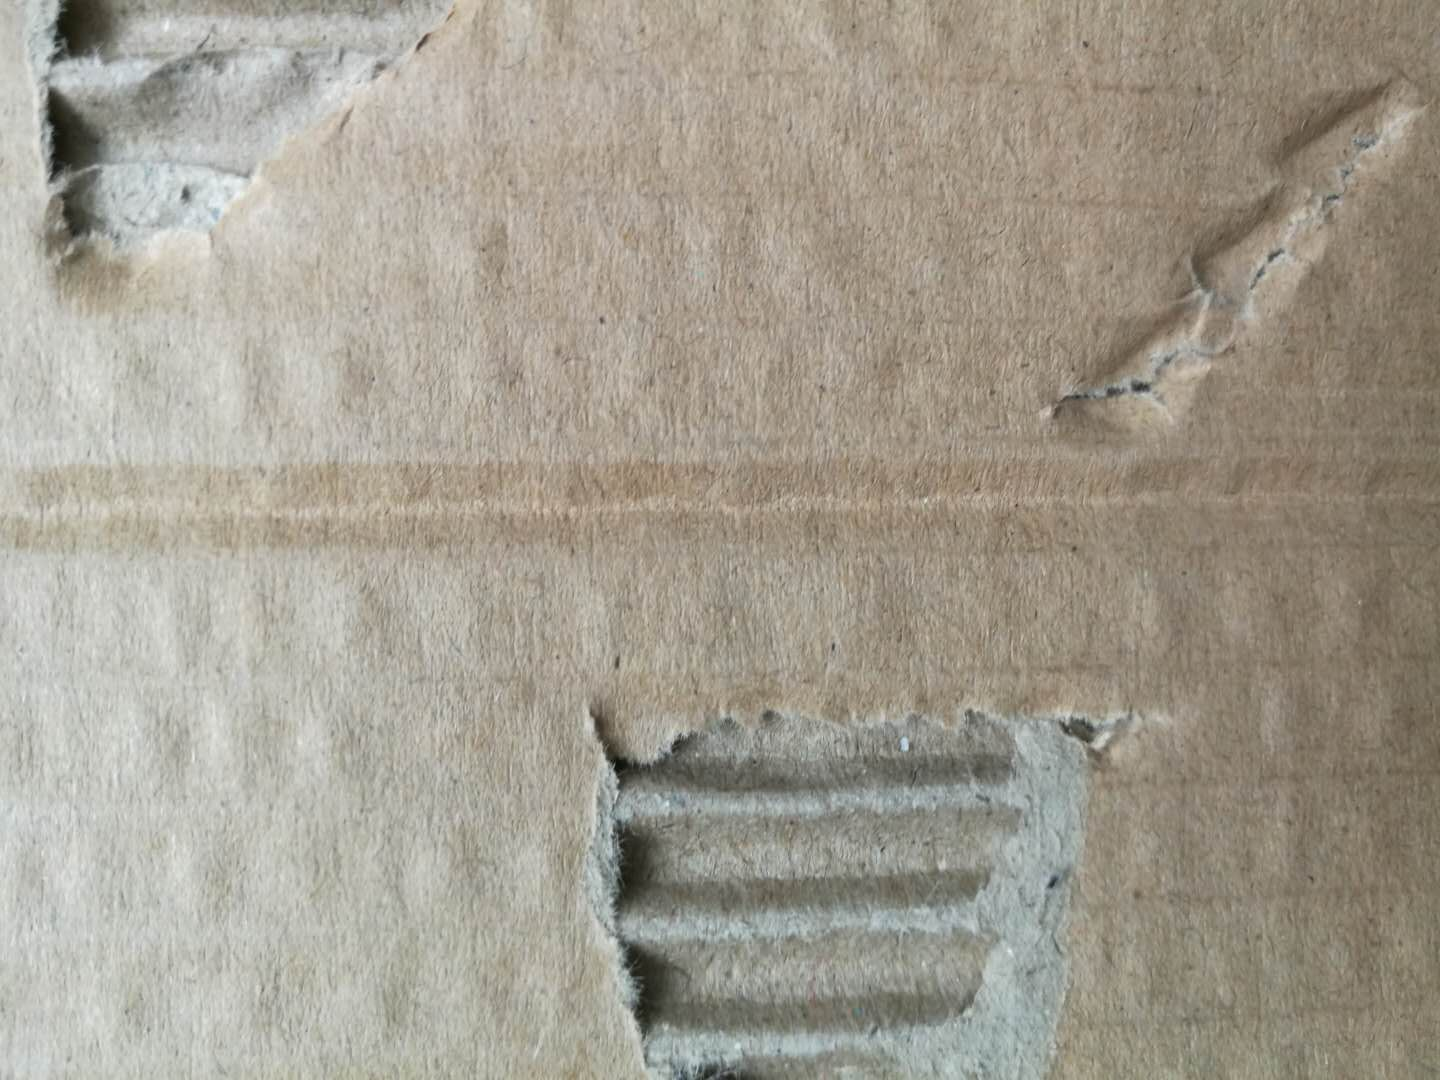defect: (530, 663, 1200, 1080), (5, 420, 1440, 594), (1013, 47, 1432, 450), (10, 1, 510, 298)
